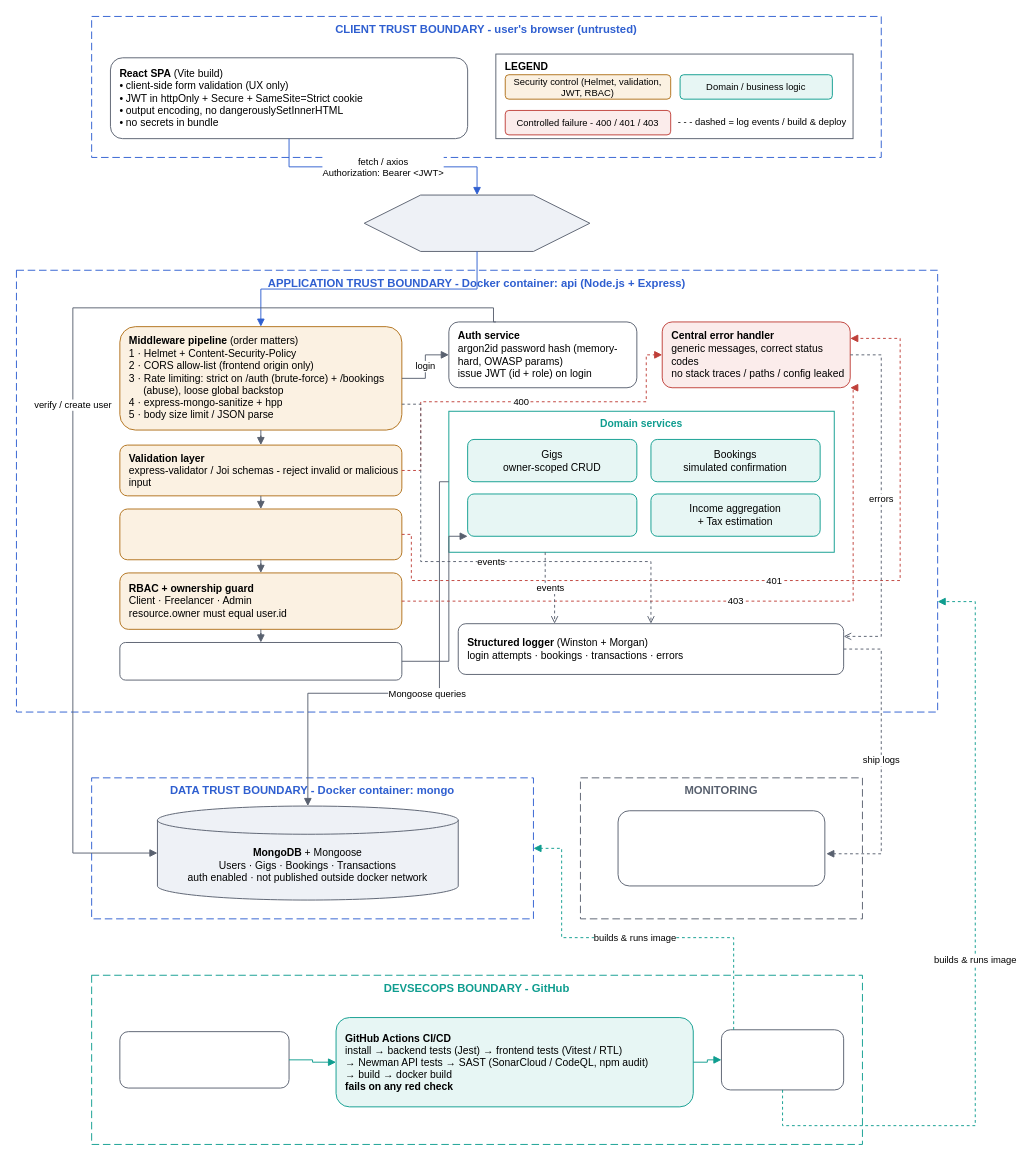
The diagram is 1033 pixels wide and 1161 high, and some of its shapes have lost their labels. The centre of each missing label's shape, as x and y in pixels:
Auth middleware verify JWT on every protected request (HS256, secret from env): (x=260, y=534)
Controllers → Services (thin routes): (x=260, y=661)
docker-compose api + client + mongo private network: (x=782, y=1059)
GitHub repository branch protection: (x=204, y=1059)
HTTPS / TLS 1.2+ local self-signed SSL cert · HSTS: (x=476, y=222)
Log sink cloud logging platform (dashboards + alerts): (x=721, y=848)
Transactions one record per booking: (x=552, y=514)
